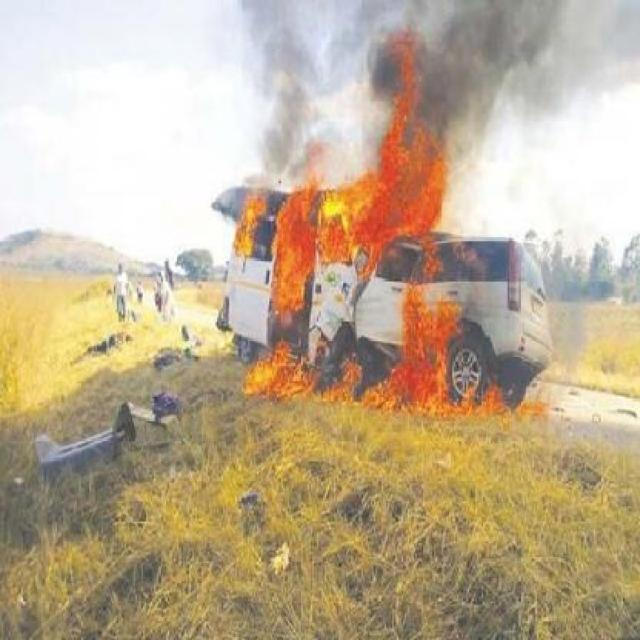Fire: (244, 146, 516, 381)
Smoke: (286, 5, 600, 106)
